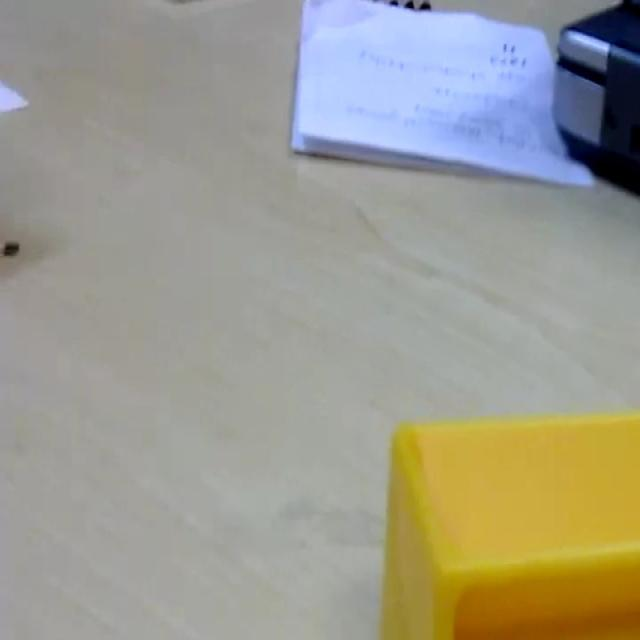yellow_block: (379, 408, 638, 636)
